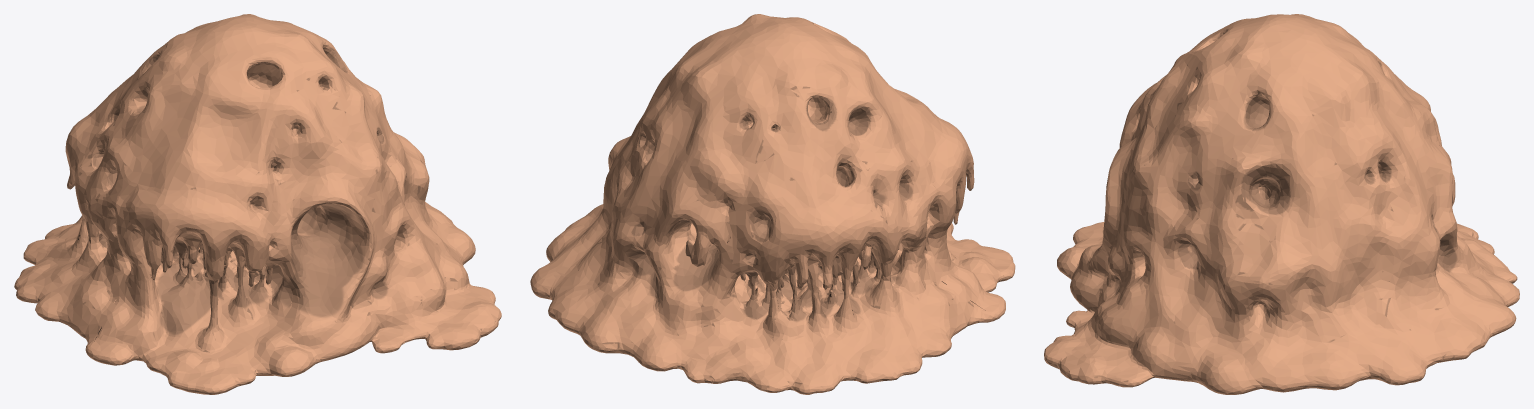
The model's file is devorador_organico.glb.
The picture shows the model from 3 angles, left to right: view 1: azimuth 30°, elevation 25°; view 2: azimuth 150°, elevation 25°; view 3: azimuth 270°, elevation 25°; orthographic projection. The views are drawn at different scales.
Parts seen in each view (by area): view 1: tmp19bhkadm.ply; view 2: tmp19bhkadm.ply; view 3: tmp19bhkadm.ply.
Boxes of the visible parts, x1,y1,x2,y2 form: tmp19bhkadm.ply: [14, 14, 501, 394]; tmp19bhkadm.ply: [530, 14, 1015, 394]; tmp19bhkadm.ply: [1044, 14, 1519, 394].
Size of the model in its own units: 1.96 by 1.28 by 1.96.
1 material, 1 textured.
